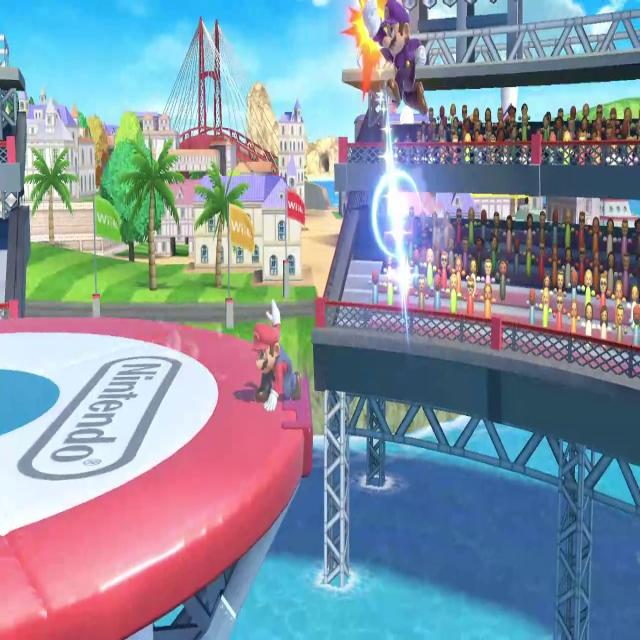Mario: (249, 294, 304, 416)
Mario-UB: (358, 0, 434, 126)
